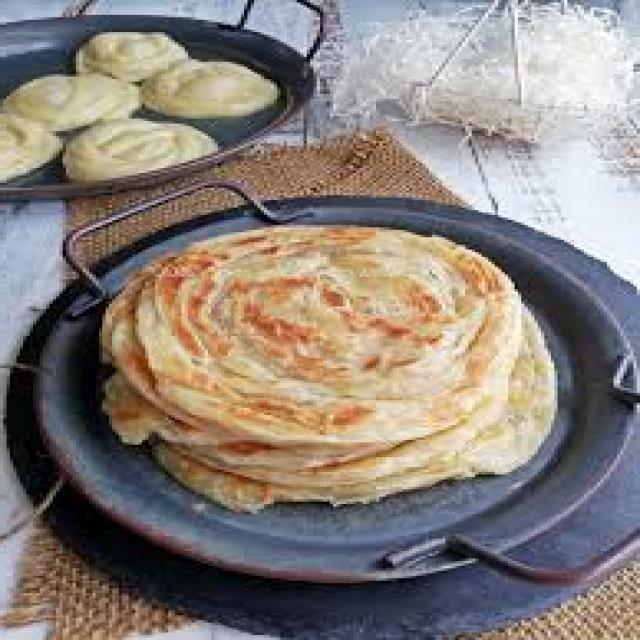Paratha: (101, 231, 568, 513)
